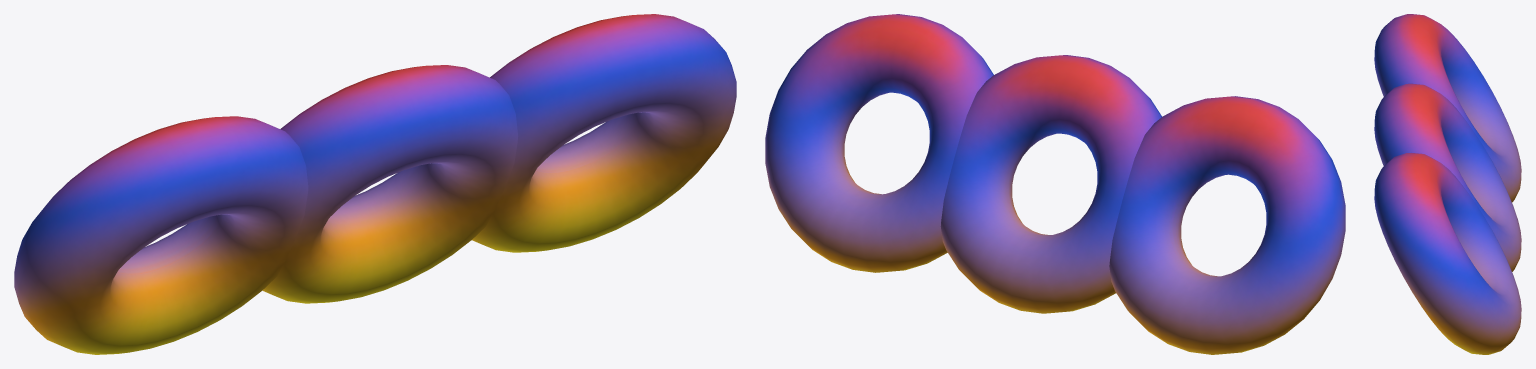
Rendered from donuts.glb.
3 renders of one model, left to right at view 1: azimuth 30°, elevation 25°; view 2: azimuth 150°, elevation 25°; view 3: azimuth 270°, elevation 25°, orthographic. The views are drawn at different scales.
Parts seen in each view (by area): view 1: Torus.2; view 2: Torus.2; view 3: Torus.2.
Boxes of the visible parts, <box> form: Torus.2: <box>14,14,736,354</box>; Torus.2: <box>765,14,1345,354</box>; Torus.2: <box>1374,14,1521,354</box>.
Size of the model in its own units: 2.85 by 1.03 by 0.7623.
1 material, 1 textured.
